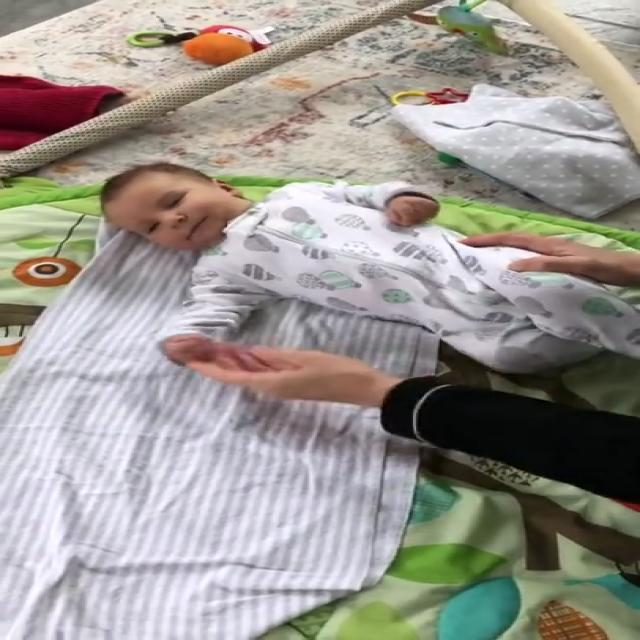baby: (82, 157, 640, 376)
